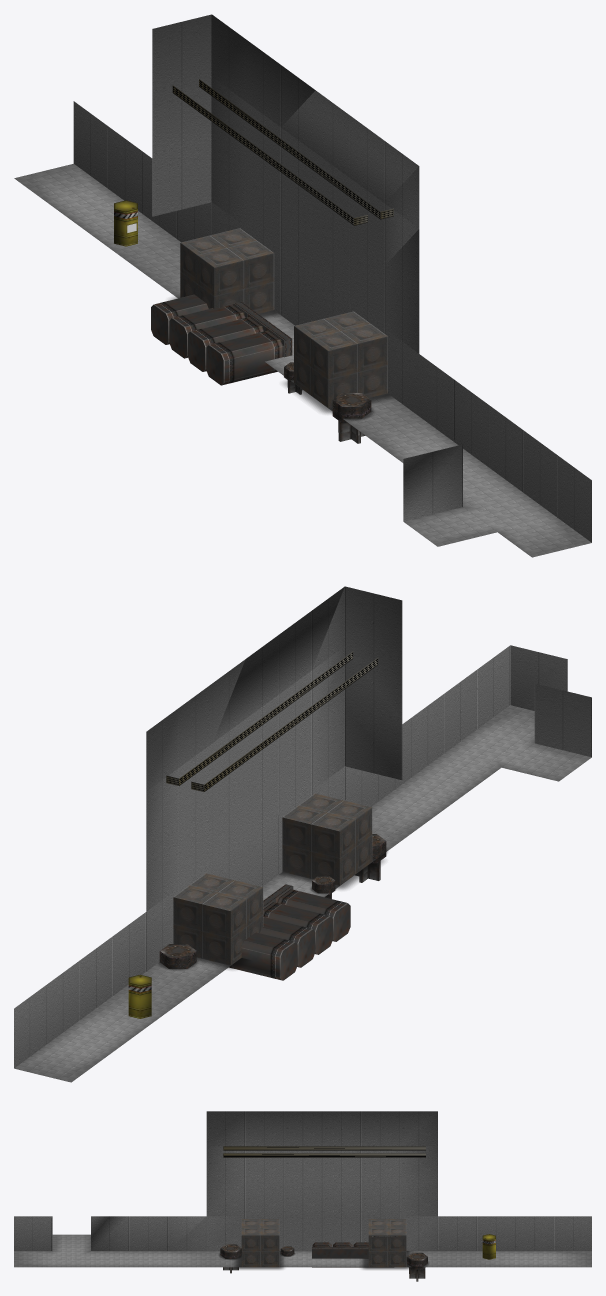
The model's file is room_16.glb.
3 views of the same model, one above another, from view 1: azimuth 30°, elevation 25°; view 2: azimuth 150°, elevation 25°; view 3: azimuth 270°, elevation 25° (orthographic). The views are drawn at different scales.
Visible parts, largest first — view 1: wall, floor, CBMetalBoxSides (×2), shaft (×4), CBMetalBoxTop (×2), Lights2, Lights1, gagTank1, PaintMixerTop; view 2: wall, floor, CBMetalBoxSides (×2), shaft (×4), CBMetalBoxTop (×2), Lights1, Lights2, gagTank1, PaintMixerTop; view 3: wall, floor, CBMetalBoxSides (×2), CBMetalBoxTop (×2), Lights2, Lights1, CBMetalBoxShadow (×2), head (×2), gagTank1, PaintMixerTop.
Boxes of the visible parts, <box> form: wall: <box>73,14,591,542</box>; floor: <box>14,163,591,557</box>; CBMetalBoxSides (×2): <box>180,243,387,407</box>; shaft (×4): <box>151,294,283,385</box>; CBMetalBoxTop (×2): <box>180,228,387,350</box>; Lights2: <box>172,85,367,225</box>; Lights1: <box>199,79,393,219</box>; gagTank1: <box>114,200,137,246</box>; PaintMixerTop: <box>332,393,371,414</box>; wall: <box>14,586,591,1068</box>; floor: <box>14,705,591,1082</box>; CBMetalBoxSides (×2): <box>173,808,372,965</box>; shaft (×4): <box>229,889,350,980</box>; CBMetalBoxTop (×2): <box>173,793,371,910</box>; Lights1: <box>166,651,353,785</box>; Lights2: <box>191,657,378,791</box>; gagTank1: <box>128,974,151,1018</box>; PaintMixerTop: <box>159,944,196,965</box>; wall: <box>14,1111,591,1250</box>; floor: <box>14,1234,591,1267</box>; CBMetalBoxSides (×2): <box>241,1235,406,1267</box>; CBMetalBoxTop (×2): <box>241,1219,406,1235</box>; Lights2: <box>223,1146,425,1150</box>; Lights1: <box>223,1153,425,1157</box>; CBMetalBoxShadow (×2): <box>234,1251,411,1269</box>; head (×2): <box>312,1247,352,1267</box>; gagTank1: <box>482,1234,495,1259</box>; PaintMixerTop: <box>406,1252,427,1265</box>.
Size of the model in its own units: 34.1 by 66.36 by 225.
20 materials, 19 textured.
